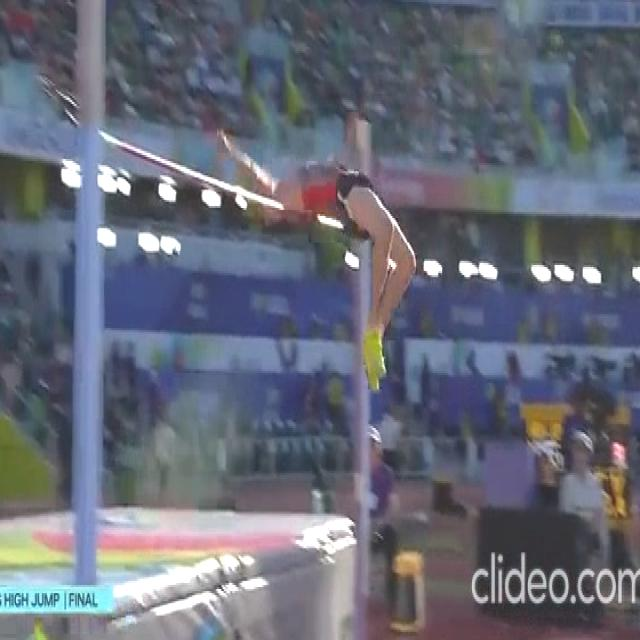jump: (211, 122, 421, 394)
